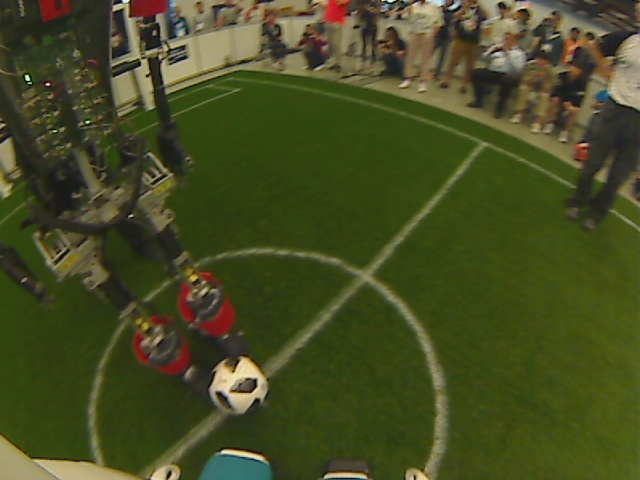ball: (203, 354, 272, 418)
